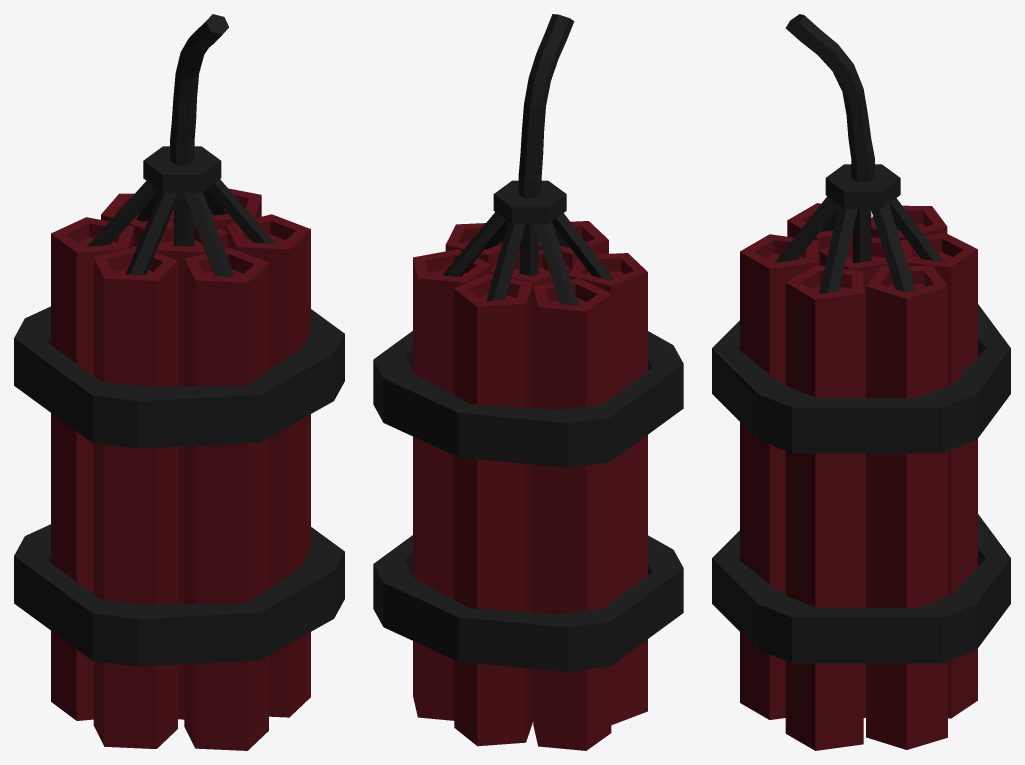
File: Dynamite B.obj
3 renders of one model, left to right at view 1: azimuth 30°, elevation 25°; view 2: azimuth 150°, elevation 25°; view 3: azimuth 270°, elevation 25°, orthographic. The views are drawn at different scales.
Parts seen in each view (by area): view 1: Dynamite_B; view 2: Dynamite_B; view 3: Dynamite_B.
Part boxes in pixels (x1,y1,x2,y2): Dynamite_B: (14,14,344,750); Dynamite_B: (373,14,683,750); Dynamite_B: (712,14,1010,750).
Size of the model in its own units: 0.1876 by 0.5055 by 0.1993.
